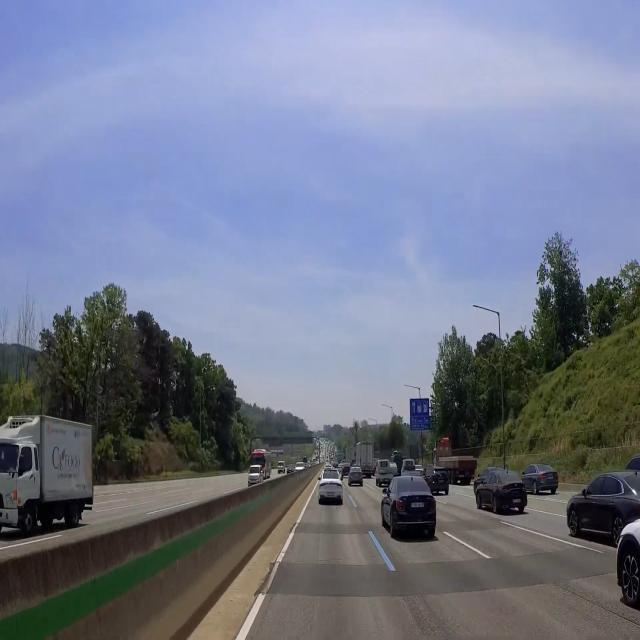car: (410, 501, 425, 510), (324, 490, 336, 499), (512, 497, 522, 505), (437, 478, 445, 486), (547, 475, 554, 481), (384, 478, 389, 483)
